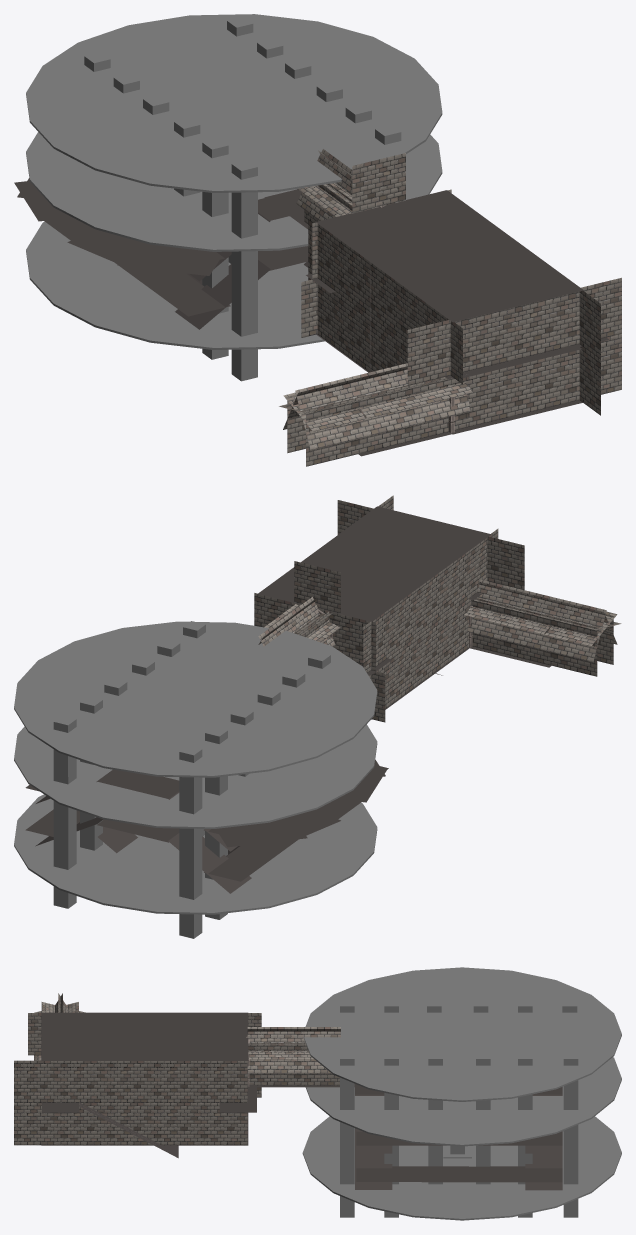
The model's file is TrapNTresure.fbx.
The picture shows the model from 3 angles, top to bottom: view 1: azimuth 30°, elevation 25°; view 2: azimuth 150°, elevation 25°; view 3: azimuth 270°, elevation 25°; orthographic projection. The views are drawn at different scales.
Parts seen in each view (by area): view 1: Cylinder__3_, UpperFloorRight__15_, Cylinder__2_, Cylinder__4_, Cube__12_, Plane__257_, Plane__259_, Plane__247_, Plane__274_, Plane__276_, Plane__249_, Plane__198_ (+33 smaller); view 2: Cylinder__3_, Cylinder__2_, Cylinder__4_, UpperFloorRight__15_, Cube__8_, Cube__9_, Plane__274_, Plane__276_, Plane__140_, Plane__227_, Plane__272_, Plane__246_ (+24 smaller); view 3: Cylinder__3_, Cylinder__2_, Cylinder__4_, UpperFloorRight__15_, Plane__262_, Plane__261_, Plane__232_, Plane__264_, Plane__260_, Plane__263_, Plane__244_, Plane__245_ (+24 smaller).
Part boxes in pixels (box(x1,y1,x2,y2)): Cylinder__3_: box(26, 14, 442, 192); UpperFloorRight__15_: box(316, 190, 583, 322); Cylinder__2_: box(26, 221, 324, 349); Cylinder__4_: box(26, 132, 442, 251); Cube__12_: box(231, 160, 257, 381); Plane__257_: box(515, 294, 568, 359); Plane__259_: box(461, 307, 514, 372); Plane__247_: box(515, 353, 568, 415); Plane__274_: box(352, 153, 405, 213); Plane__276_: box(407, 320, 461, 385); Plane__249_: box(466, 365, 514, 427); Plane__198_: box(295, 377, 363, 450); Cylinder__3_: box(14, 621, 377, 777); Cylinder__2_: box(14, 794, 377, 914); Cylinder__4_: box(14, 724, 377, 828); UpperFloorRight__15_: box(258, 506, 491, 621); Cube__8_: box(179, 745, 202, 938); Cube__9_: box(53, 715, 76, 908); Plane__274_: box(294, 561, 340, 620); Plane__276_: box(487, 536, 524, 589); Plane__140_: box(546, 599, 606, 662); Plane__227_: box(500, 587, 559, 650); Plane__272_: box(329, 614, 375, 671); Plane__246_: box(417, 617, 444, 684); Cylinder__3_: box(304, 967, 621, 1101); Cylinder__2_: box(302, 1116, 621, 1220); Cylinder__4_: box(305, 1057, 621, 1146); UpperFloorRight__15_: box(41, 1012, 248, 1060); Plane__262_: box(60, 1061, 107, 1102); Plane__261_: box(200, 1061, 247, 1102); Plane__232_: box(154, 1103, 200, 1145); Plane__264_: box(14, 1060, 60, 1102); Plane__260_: box(154, 1061, 200, 1102); Plane__263_: box(107, 1061, 153, 1102); Plane__244_: box(107, 1103, 153, 1145); Plane__245_: box(14, 1103, 60, 1145).
Size of the model in its own units: 7193 by 4426 by 13017.
